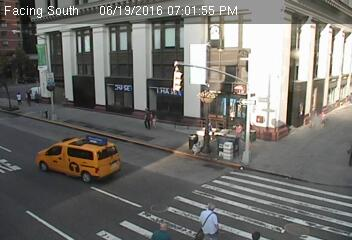neg: (264, 151, 283, 177), (193, 117, 210, 140), (157, 12, 174, 34), (44, 146, 60, 167), (126, 152, 141, 173), (275, 19, 287, 36), (277, 118, 289, 134), (230, 8, 242, 24), (112, 19, 124, 34), (75, 36, 86, 50), (69, 122, 79, 136), (73, 82, 83, 95), (175, 140, 184, 152), (114, 203, 123, 214), (133, 188, 140, 197), (204, 84, 208, 90)
pos: (193, 199, 222, 238), (135, 101, 157, 130), (154, 219, 168, 238), (28, 88, 40, 103), (22, 90, 32, 104), (13, 89, 23, 103)
